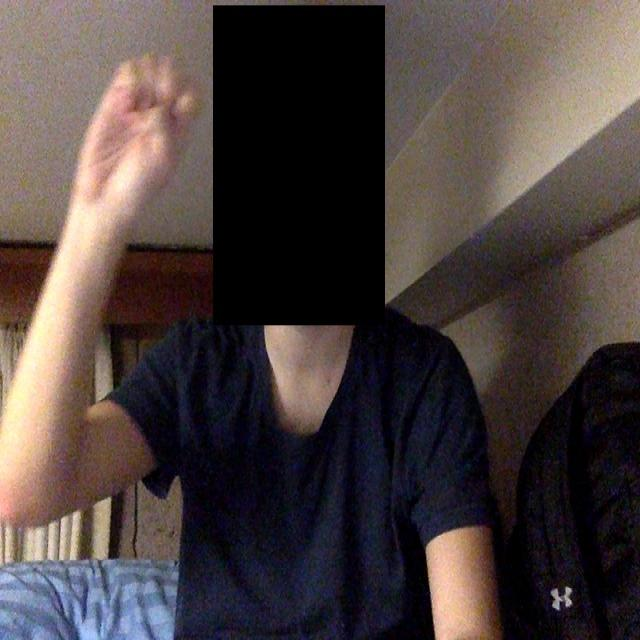E: (59, 0, 222, 277)
